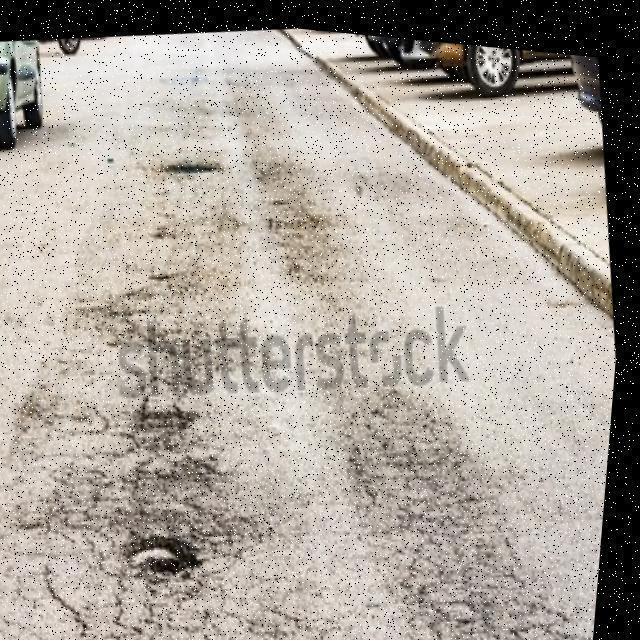Pothole: (125, 532, 202, 576), (160, 161, 222, 174)
